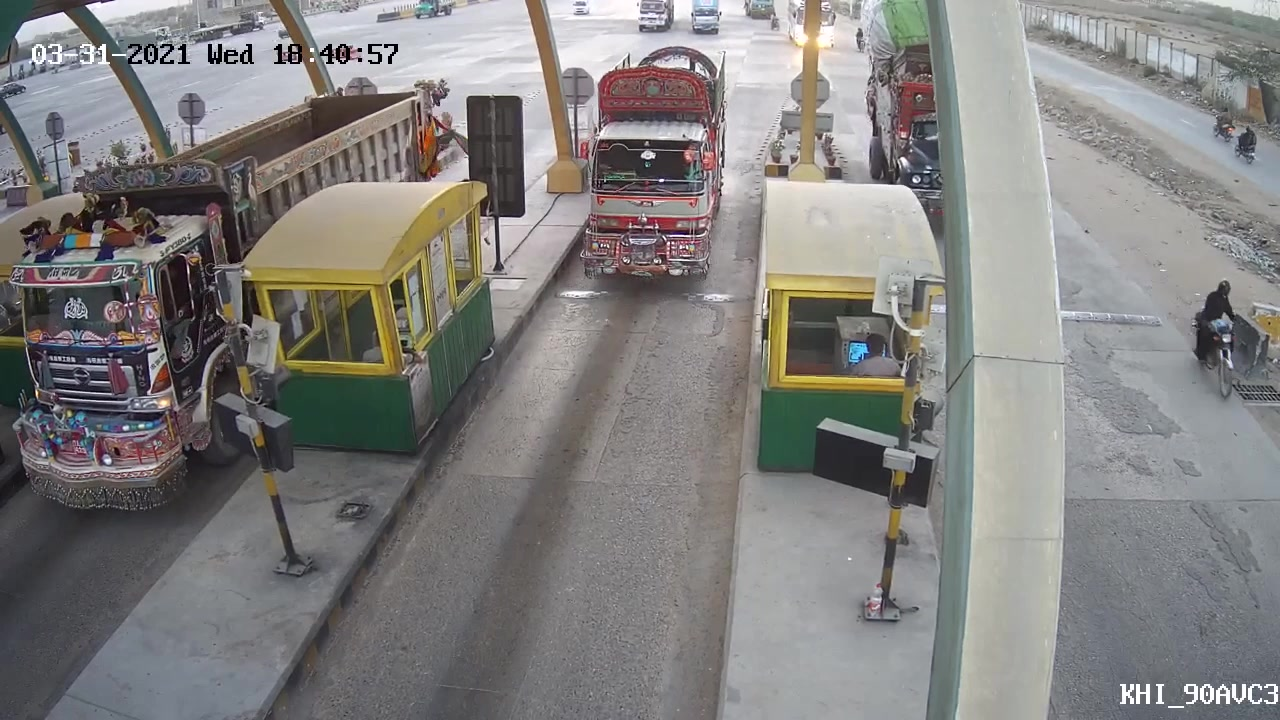F5: (564, 48, 728, 302)
